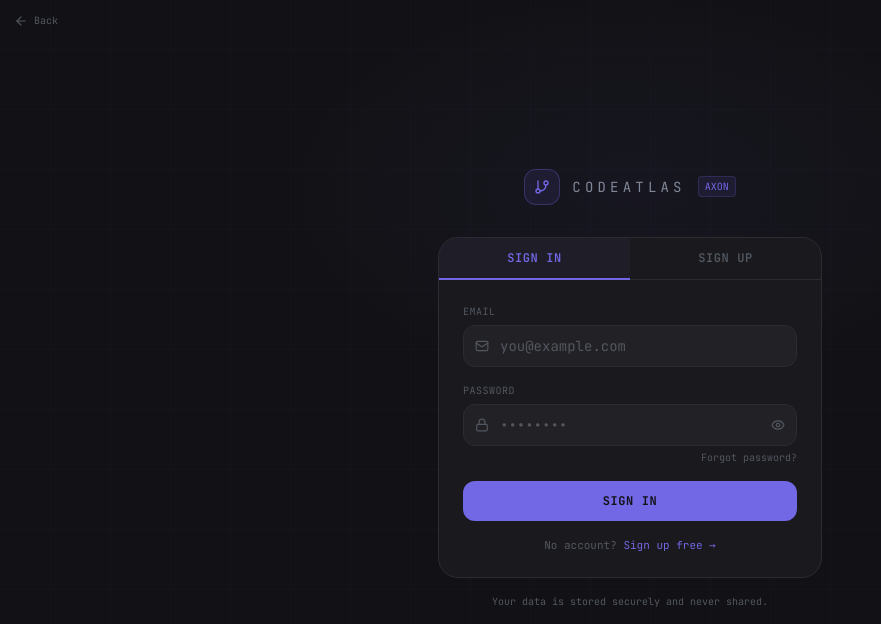
Auth page › switching to SIGN UP hides "Forgot password?"
The width and height of the screenshot is (881, 624).
Click the button "SIGN UP".
click(726, 258)  # box [630,238,821,279]
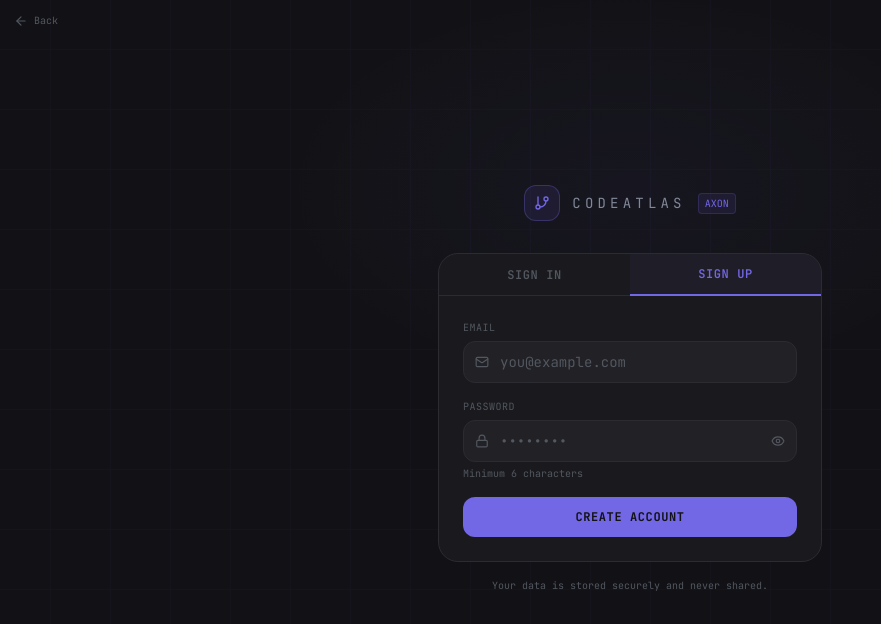
Check: the button "Forgot password?" is gone
